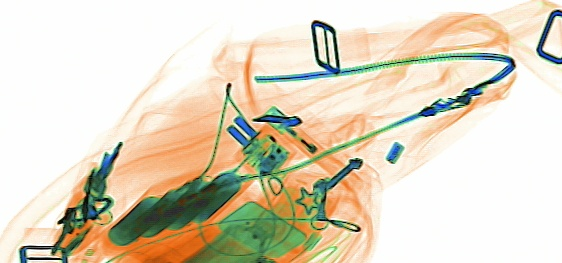lighter: (261, 105, 362, 191)
powerbank: (104, 167, 250, 253)
